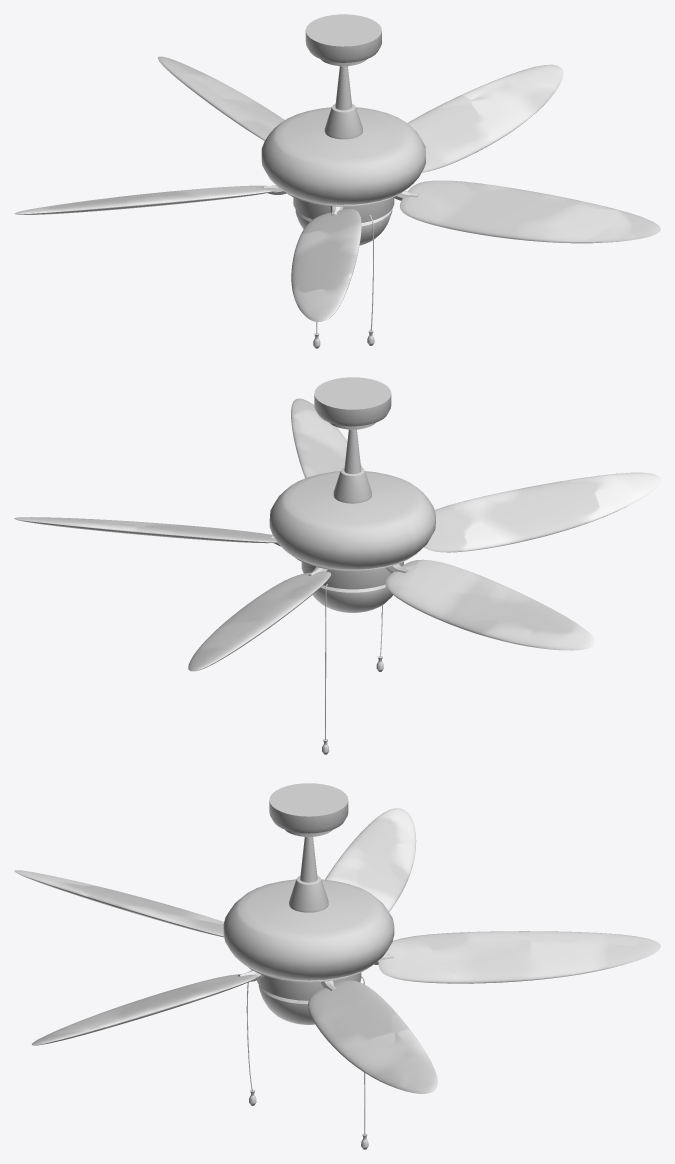
File: CeilingFan.fbx
3 views of the same model, one above another, from view 1: azimuth 30°, elevation 25°; view 2: azimuth 150°, elevation 25°; view 3: azimuth 270°, elevation 25° (orthographic). The views are drawn at different scales.
Visible parts, largest first — view 1: ceiling_fan; view 2: ceiling_fan; view 3: ceiling_fan.
Part boxes in pixels (<box>): ceiling_fan: <box>14,14,660,348</box>; ceiling_fan: <box>14,377,660,754</box>; ceiling_fan: <box>14,783,660,1149</box>.
Bounding box in the file's own units: 3.58 × 2.06 × 3.45.
